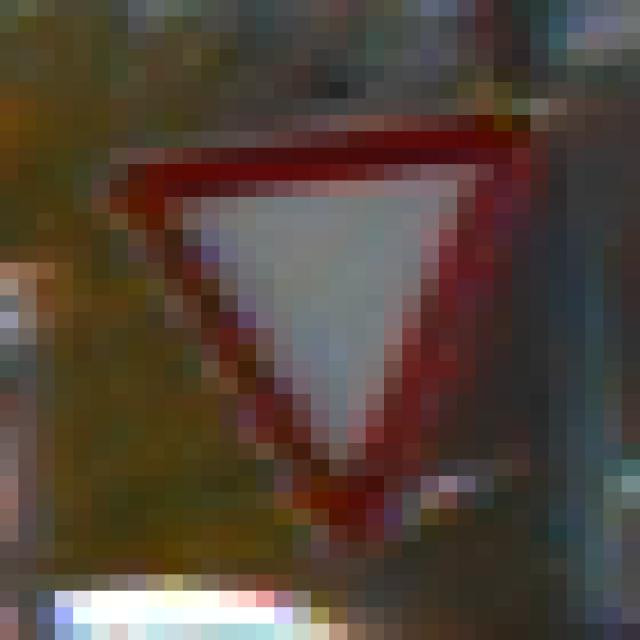Give Way: (93, 83, 550, 559)
